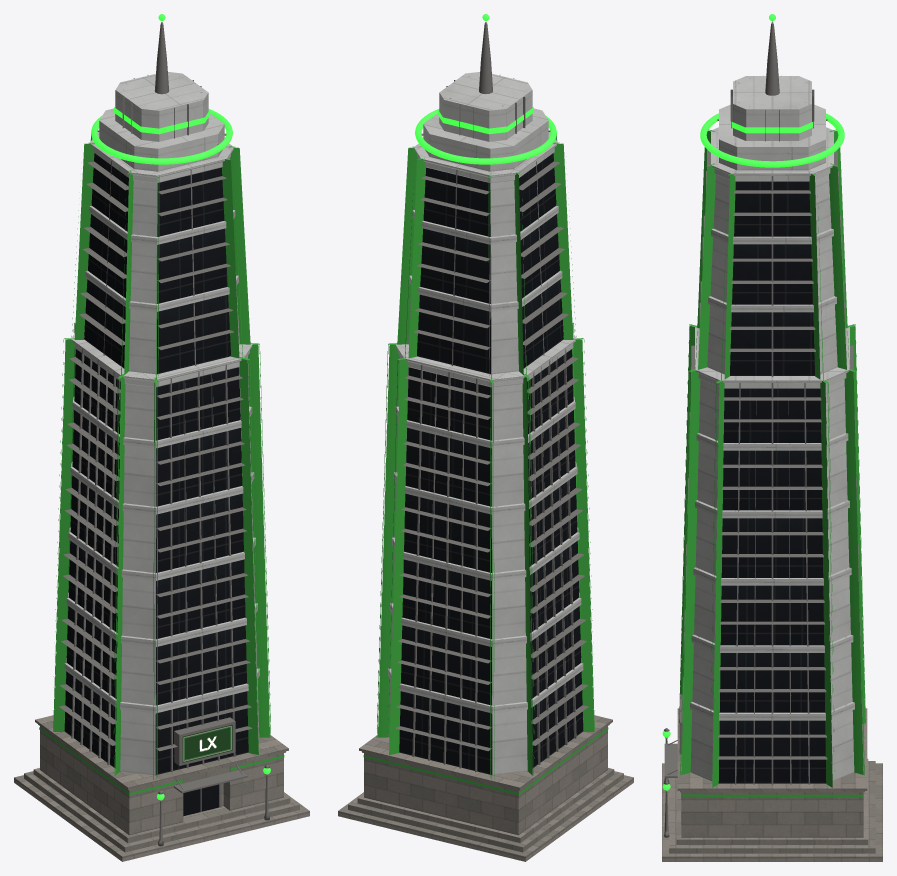
File: locator-x.glb
3 renders of one model, left to right at view 1: azimuth 30°, elevation 25°; view 2: azimuth 150°, elevation 25°; view 3: azimuth 270°, elevation 25°, orthographic. The views are drawn at different scales.
Visible parts, largest first — view 1: Landmark · Locator.X; view 2: Landmark · Locator.X; view 3: Landmark · Locator.X.
Boxes of the visible parts, x1,y1,x2,y2 form: Landmark · Locator.X: (14,14,309,861); Landmark · Locator.X: (338,14,633,861); Landmark · Locator.X: (662,14,882,861).
Size of the model in its own units: 12 by 48 by 12.
Materials: 7 (4 with a texture image).
